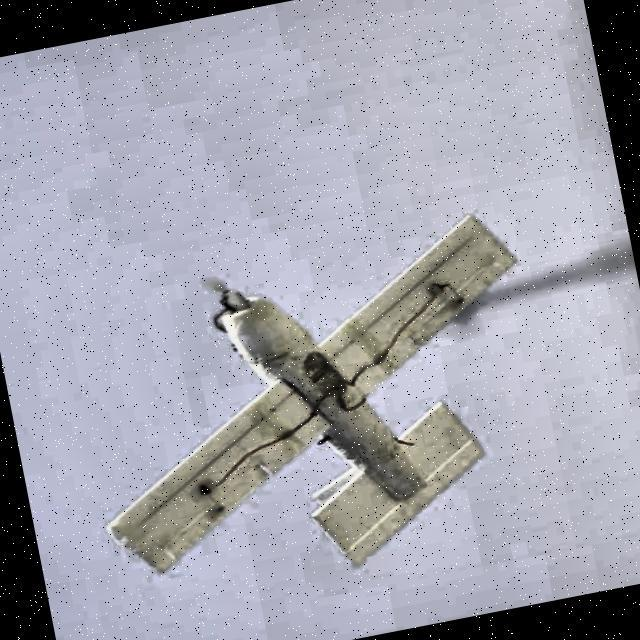iha: (51, 189, 582, 636)
